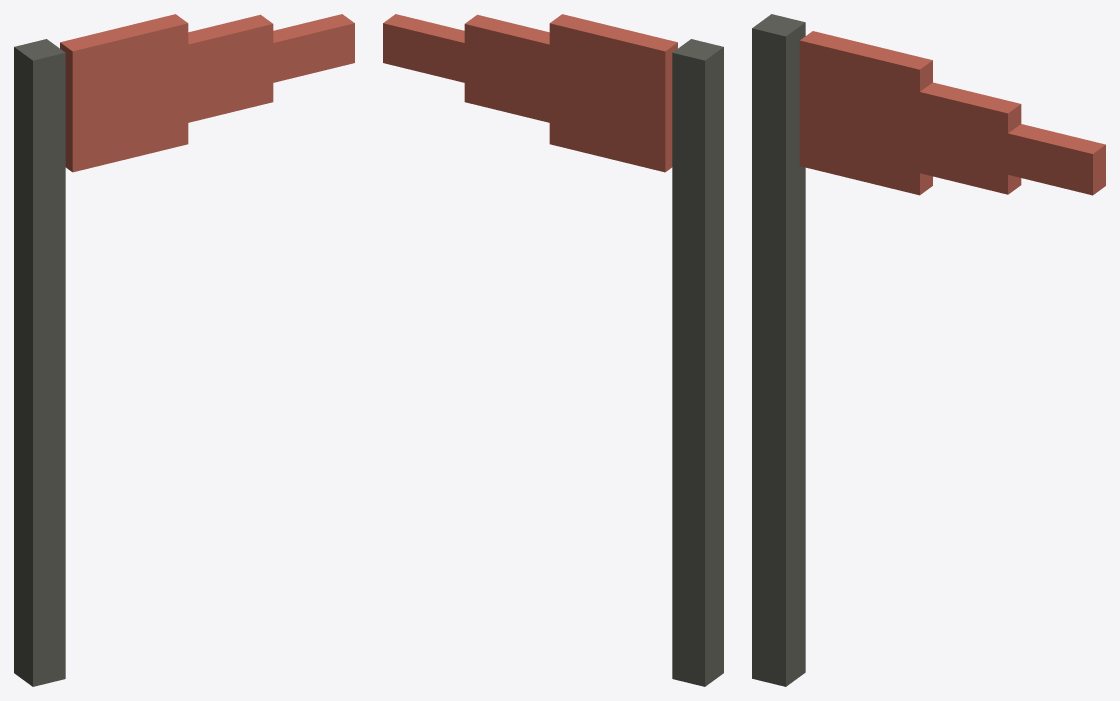
File: flag_pennant.glb
The picture shows the model from 3 angles, left to right: view 1: azimuth 30°, elevation 25°; view 2: azimuth 150°, elevation 25°; view 3: azimuth 330°, elevation 25°; orthographic projection. The views are drawn at different scales.
Visible parts, largest first — view 1: accent_Flag, Flag; view 2: accent_Flag, Flag; view 3: accent_Flag, Flag.
Boxes of the visible parts, box(x1,y1,x2,y2) form: accent_Flag: box(14, 39, 65, 686); Flag: box(60, 14, 354, 172); accent_Flag: box(672, 39, 723, 686); Flag: box(383, 14, 677, 172); accent_Flag: box(752, 14, 805, 686); Flag: box(799, 31, 1105, 195).
Size of the model in its own units: 0.239 by 0.44 by 0.024.
